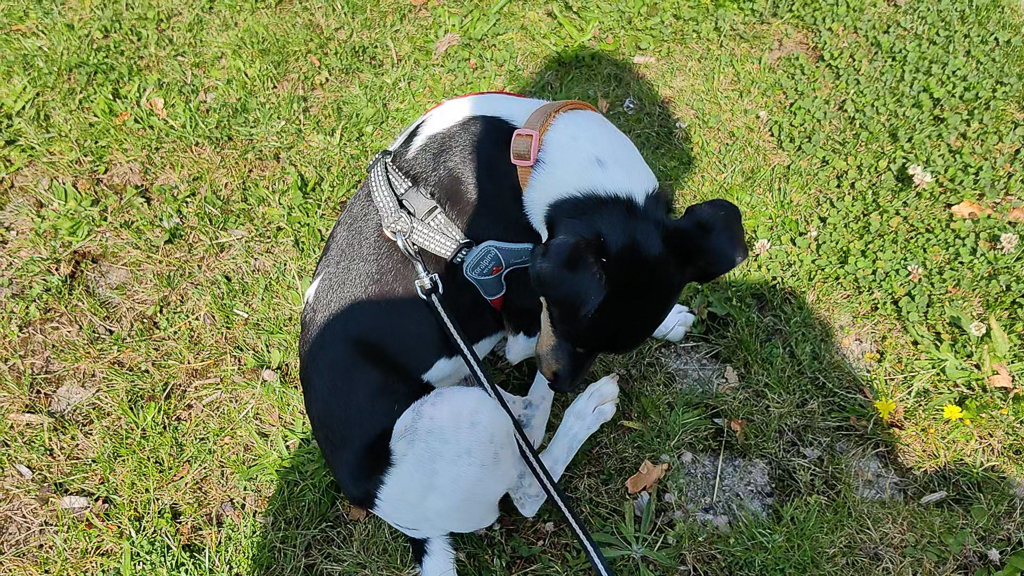Dog: (260, 47, 770, 576)
